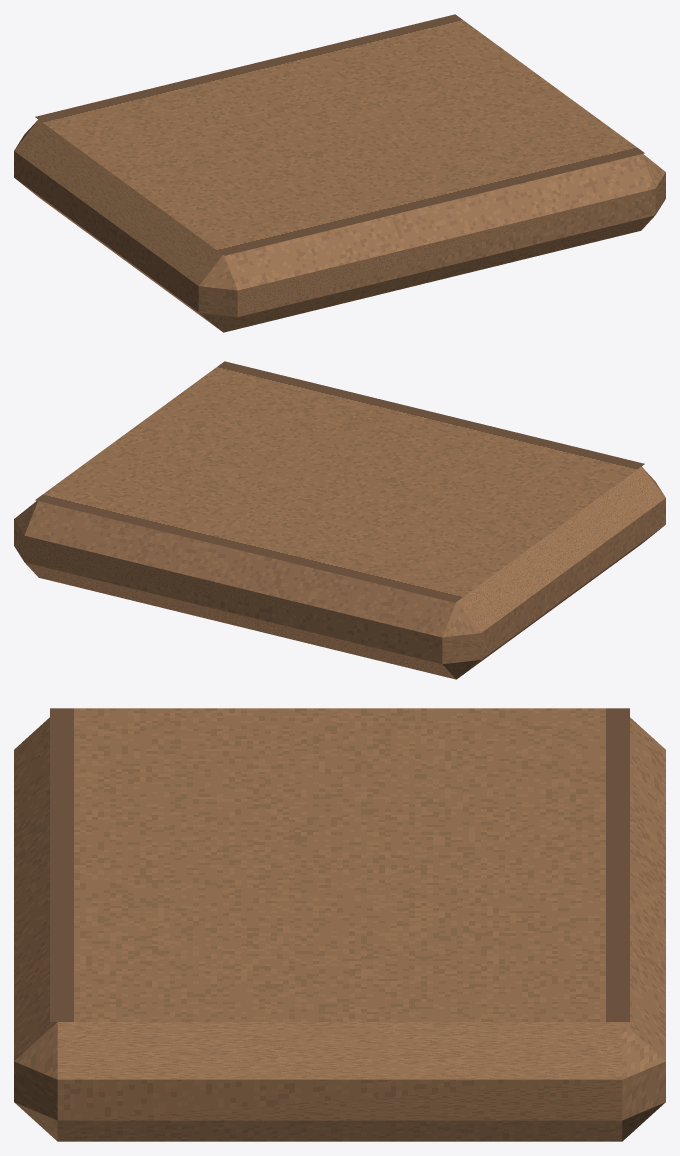
Rendered from down_blanket.glb.
3 views of the same model, one above another, from view 1: azimuth 30°, elevation 25°; view 2: azimuth 150°, elevation 25°; view 3: azimuth 270°, elevation 25° (orthographic). The views are drawn at different scales.
Parts seen in each view (by area): view 1: block_hem or woven pattern, block_folded textile; view 2: block_hem or woven pattern, block_folded textile; view 3: block_hem or woven pattern, block_folded textile.
Part boxes in pixels (box(x1,y1,x2,y2)): block_hem or woven pattern: box(35, 14, 644, 255); block_folded textile: box(14, 119, 665, 332); block_hem or woven pattern: box(35, 361, 644, 602); block_folded textile: box(14, 466, 665, 679); block_hem or woven pattern: box(50, 708, 629, 1021); block_folded textile: box(14, 717, 665, 1141).
Size of the model in its own units: 0.43 by 0.0695 by 0.34.
1 material, 1 textured.
